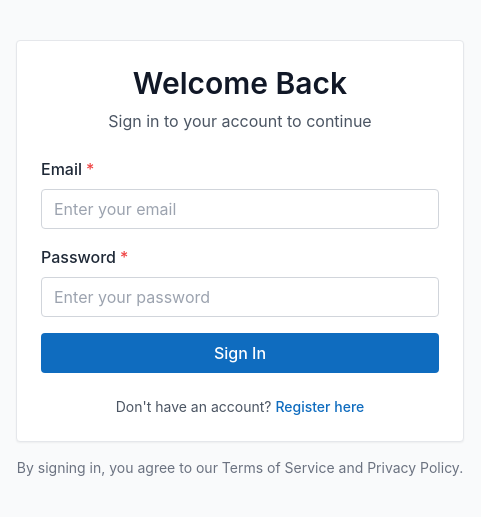
Test case: LoginPage › Form Validation › should validate email format
Click the button "Sign In": [240, 353] box [41,333,439,373]
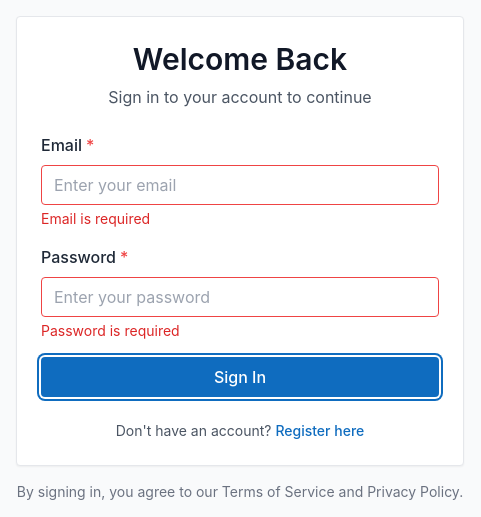
Result: the text "Email is required" is shown at [41,210,150,227]
